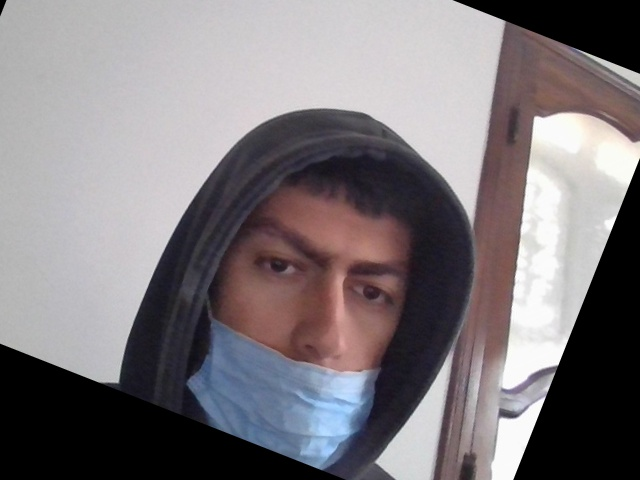mask_weared_incorrect: (201, 160, 423, 462)
